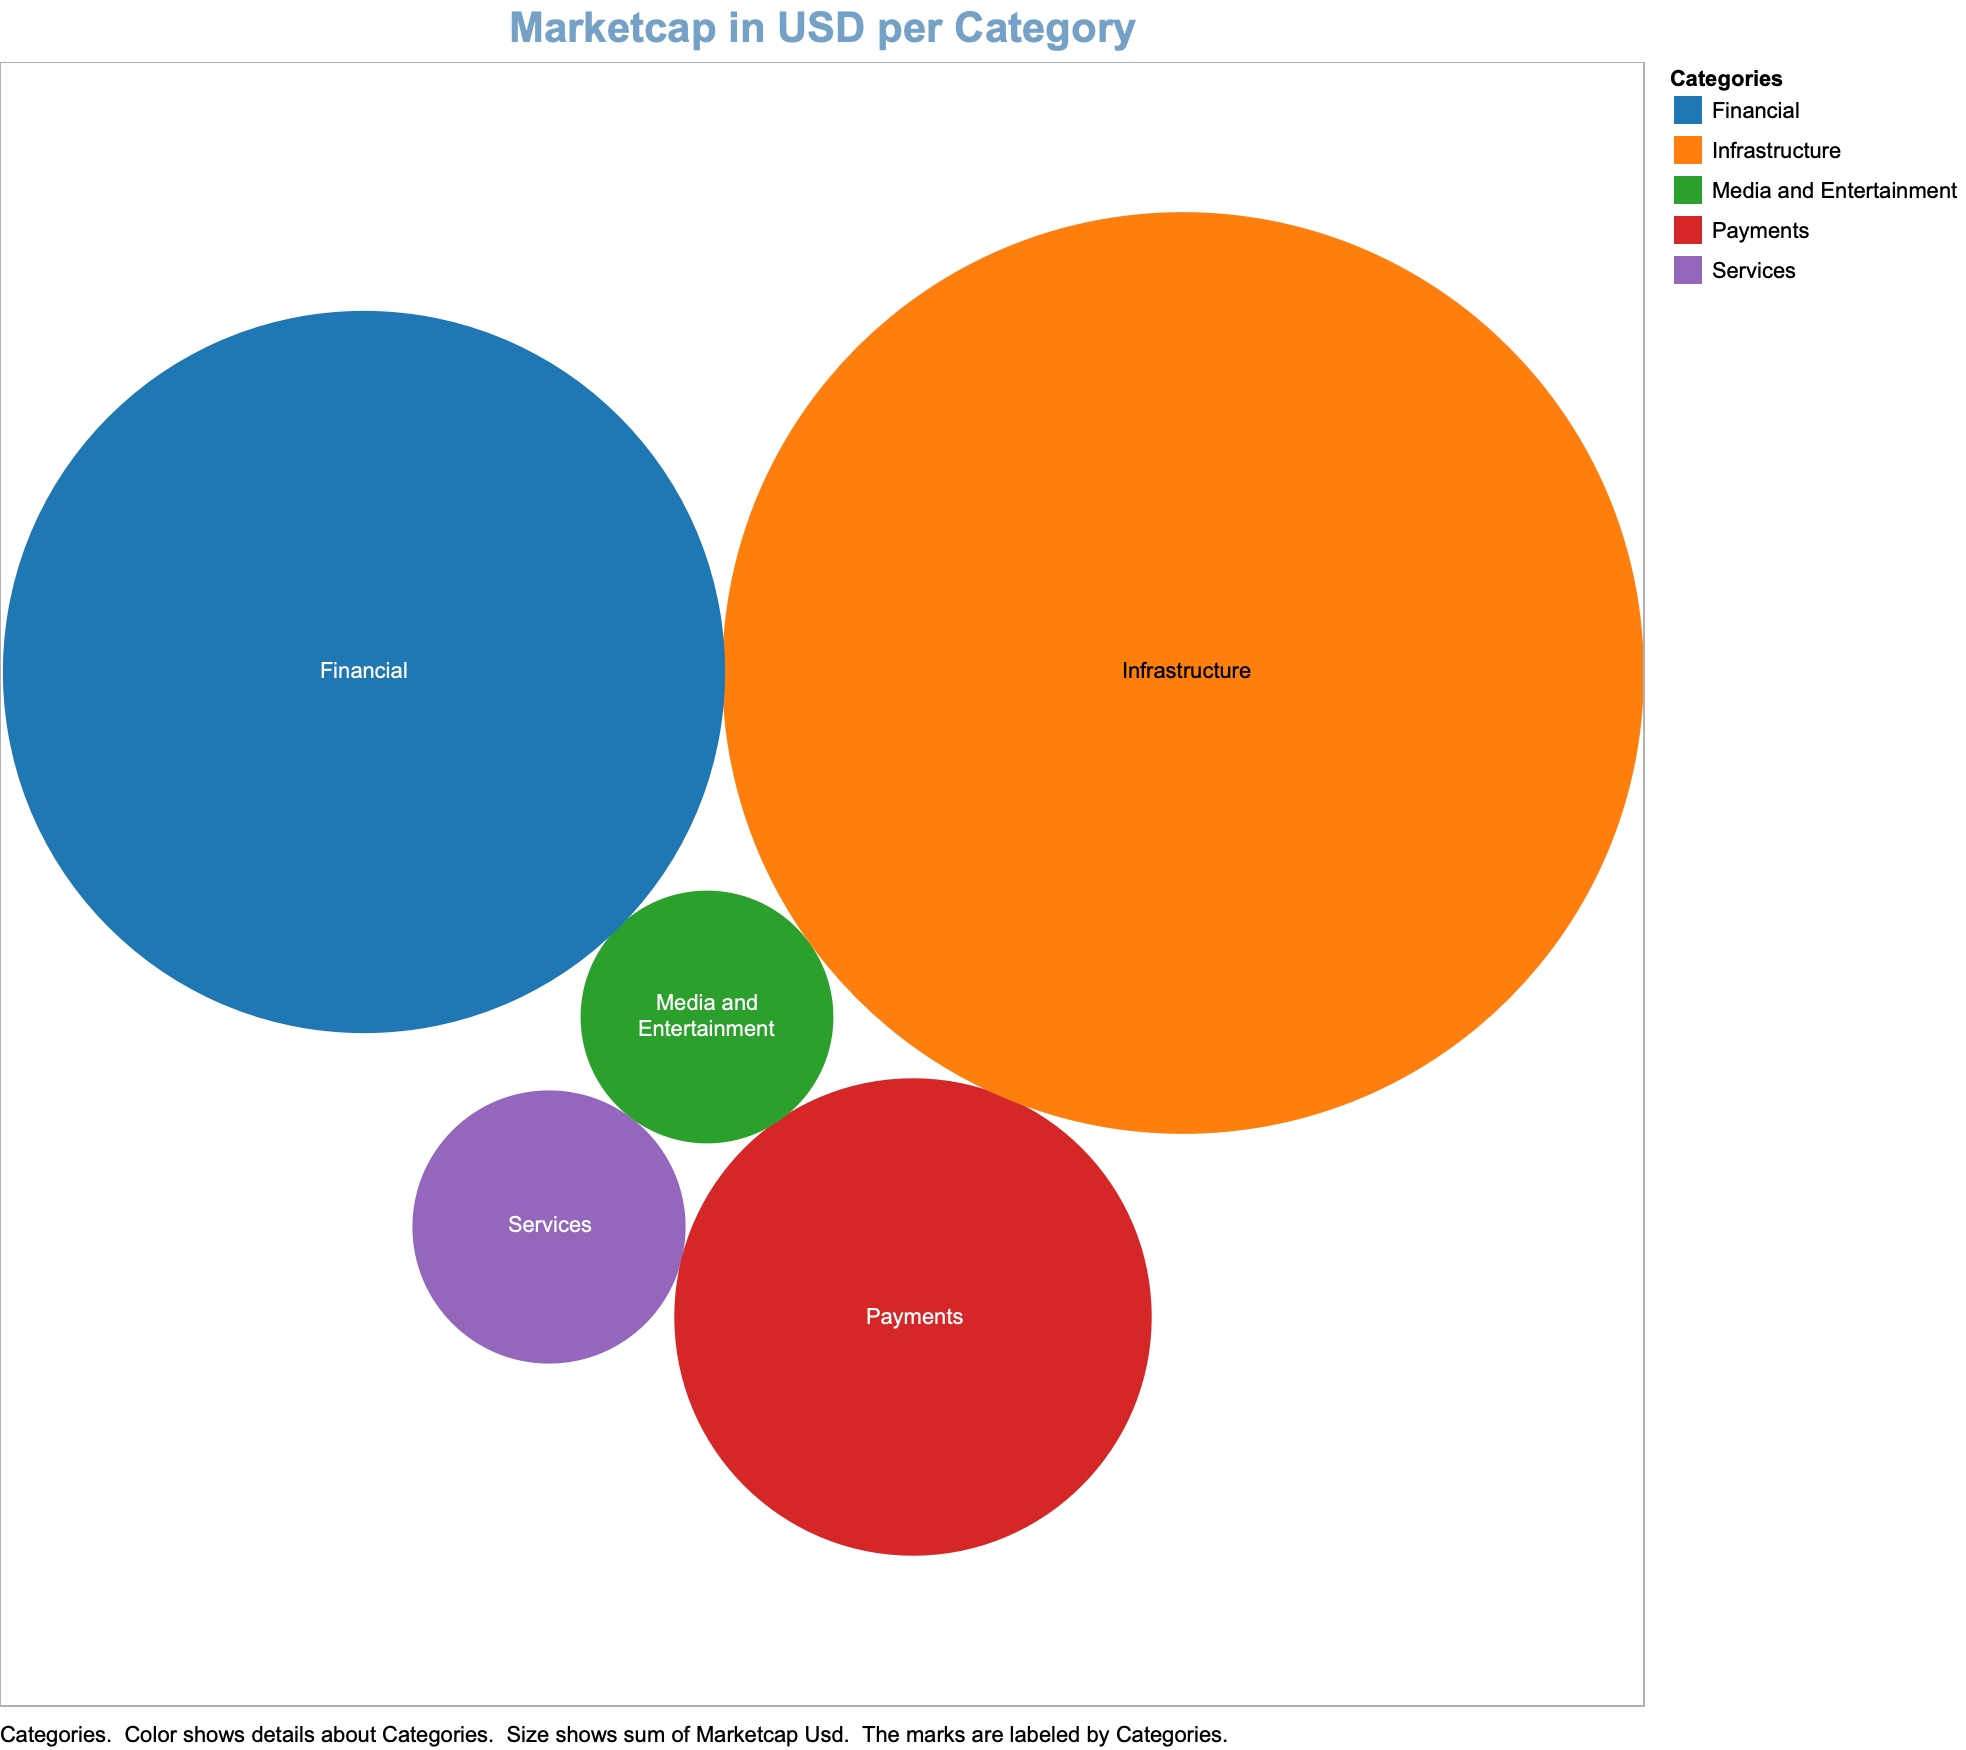

Layout of this report page (visuals, bound fields, positions):
{"tool":"tableau","page":{"name":"Dashboard 3","canvas":[1000,800],"ordinal":0},"visuals":[{"type":"title","box":[8,8,984,85]},{"type":"image","param":"/Users/kevinrodriguez/Desktop/Final_Project/FinalProject_CryptoAnalysis/crypto-i","box":[8,93,984,699]}]}

Visuals, with their boxes on the page's 1000x800 design canvas (x1, y1, x2, y2). These are canvas units, not pixel positions in the 1966x1750 screenshot, which may show the page scaled, cropped or inside an application window:
title: bbox=[8, 8, 992, 93]
image: bbox=[8, 93, 992, 792]
